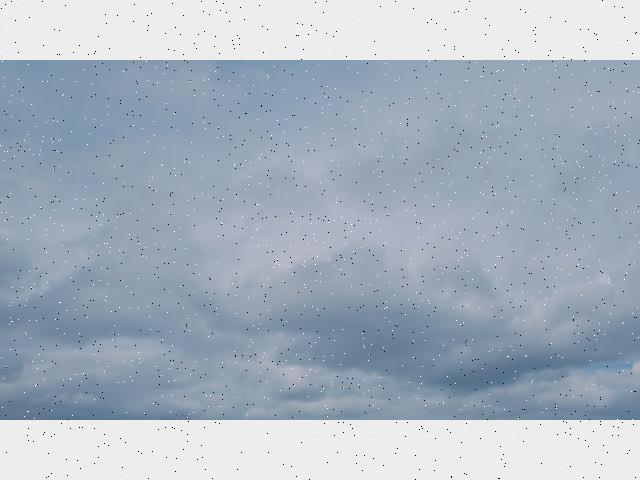Anti-Drone: (396, 266, 406, 274)
